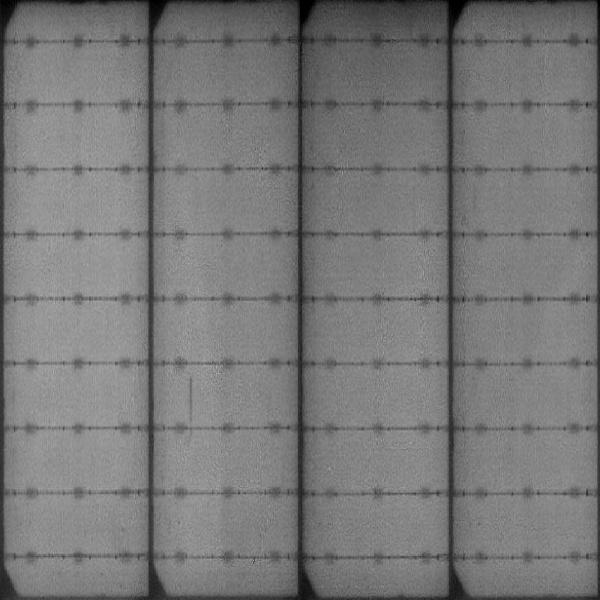scratch: (185, 374, 197, 430)
